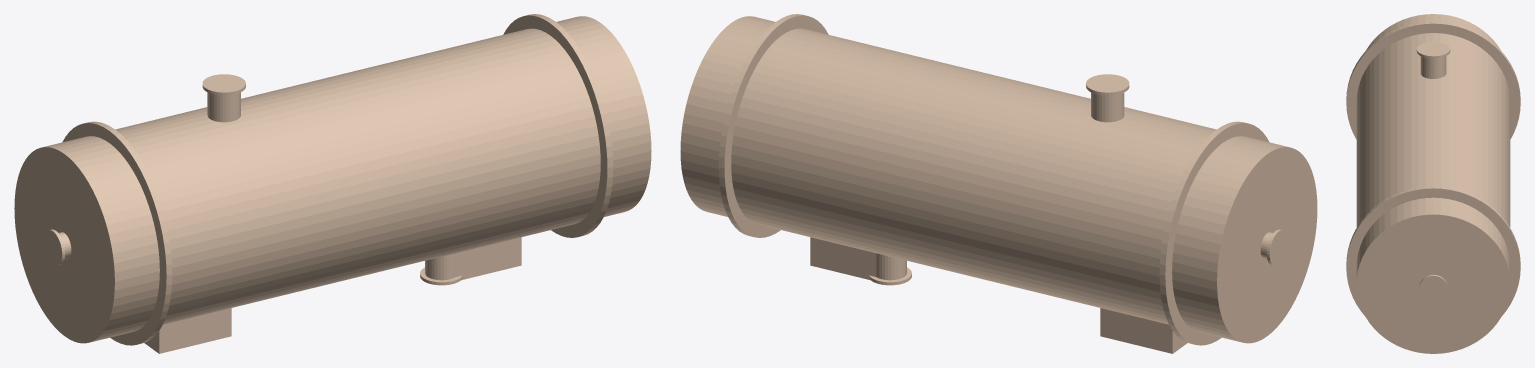
The model's file is VIncinerator_HeatExchanger.glb.
The picture shows the model from 3 angles, left to right: view 1: azimuth 30°, elevation 25°; view 2: azimuth 150°, elevation 25°; view 3: azimuth 270°, elevation 25°; orthographic projection. The views are drawn at different scales.
Parts seen in each view (by area): view 1: VIncinerator_HeatExchanger; view 2: VIncinerator_HeatExchanger; view 3: VIncinerator_HeatExchanger.
Boxes of the visible parts, x1=… form: VIncinerator_HeatExchanger: x1=14, y1=14, x2=651, y2=353; VIncinerator_HeatExchanger: x1=680, y1=14, x2=1317, y2=353; VIncinerator_HeatExchanger: x1=1346, y1=14, x2=1520, y2=353.
Size of the model in its own units: 3.86 by 1.63 by 1.36.
